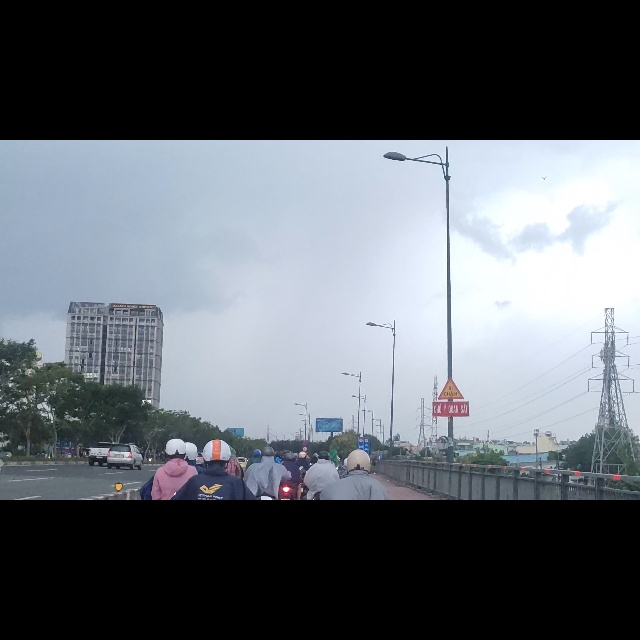bien_nguy_hiem: (436, 420, 465, 463)
